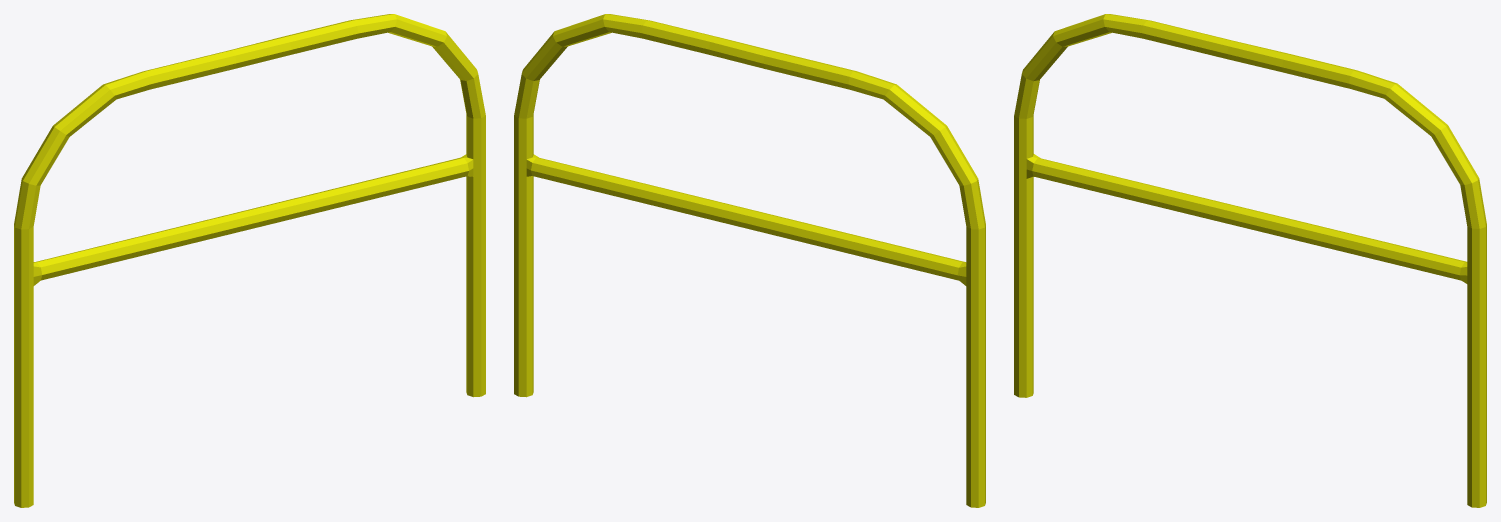
File: absperrung.fbx
3 views of the same model, side by side, from view 1: azimuth 30°, elevation 25°; view 2: azimuth 150°, elevation 25°; view 3: azimuth 330°, elevation 25° (orthographic).
Visible parts, largest first — view 1: Cylinder; view 2: Cylinder; view 3: Cylinder.
Part boxes in pixels (x1=…): Cylinder: x1=14, y1=14, x2=485, y2=507; Cylinder: x1=514, y1=14, x2=985, y2=507; Cylinder: x1=1014, y1=14, x2=1486, y2=507.
Size of the model in its own units: 725 by 595 by 27.25.
